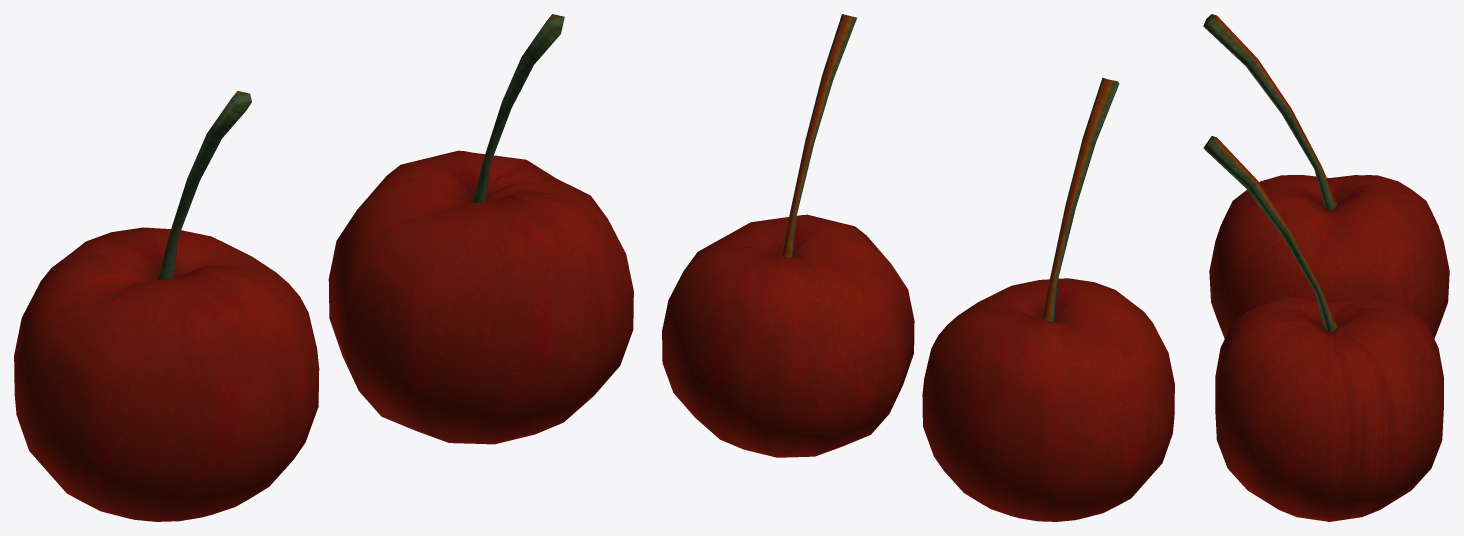
Rendered from FBX_Cherry_HI.fbx.
3 renders of one model, left to right at view 1: azimuth 30°, elevation 25°; view 2: azimuth 150°, elevation 25°; view 3: azimuth 270°, elevation 25°, orthographic. The views are drawn at different scales.
Parts seen in each view (by area): view 1: Cherry, CherryLo; view 2: Cherry, CherryLo; view 3: CherryLo, Cherry.
Boxes of the visible parts, x1=… form: Cherry: x1=14, y1=91, x2=319, y2=521; CherryLo: x1=328, y1=14, x2=633, y2=444; Cherry: x1=922, y1=77, x2=1174, y2=521; CherryLo: x1=662, y1=14, x2=914, y2=457; CherryLo: x1=1203, y1=136, x2=1443, y2=521; Cherry: x1=1203, y1=14, x2=1449, y2=338.
Size of the model in its own units: 282 by 216 by 131.
